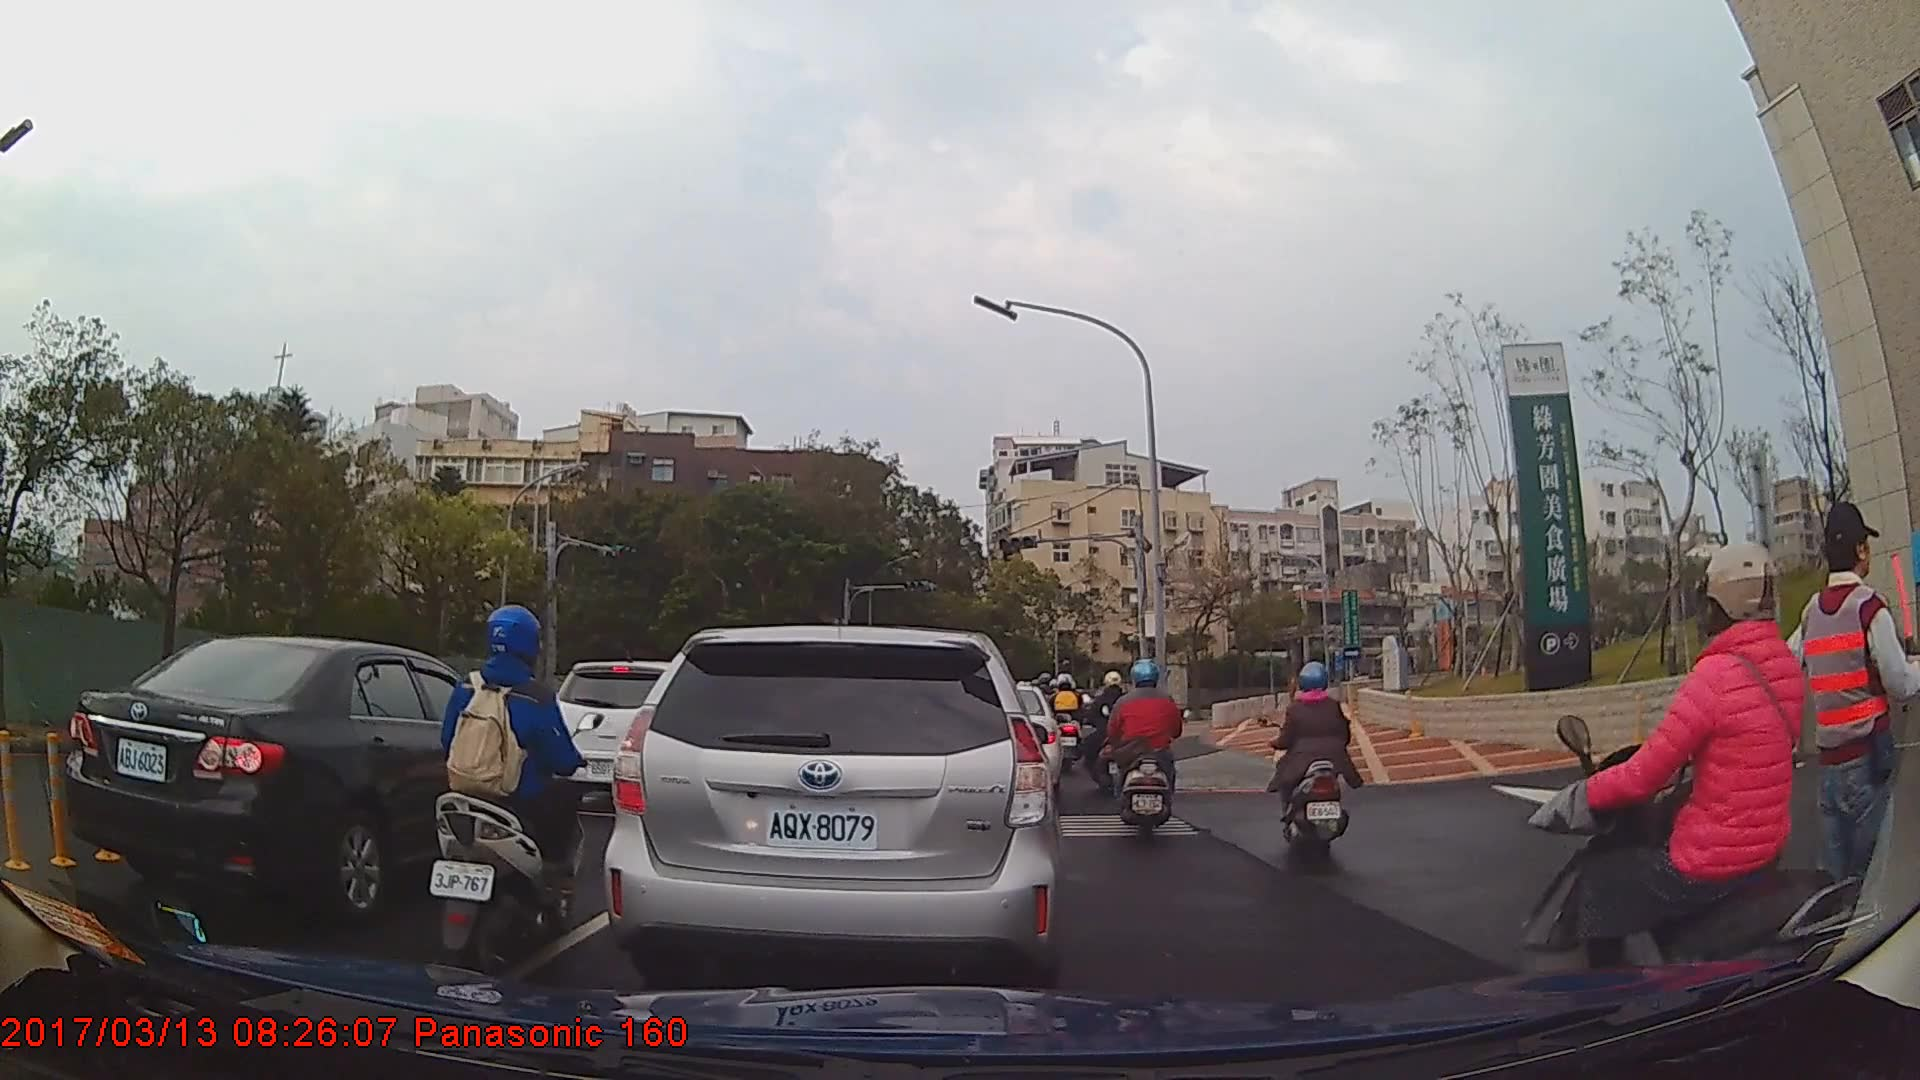pedestrian: (1748, 498, 1919, 979)
rider: (1509, 542, 1872, 1075), (436, 602, 599, 988), (1273, 655, 1353, 862), (1107, 657, 1189, 841), (1086, 671, 1135, 799), (1051, 670, 1086, 773)
vehicle: (601, 625, 1060, 993), (66, 633, 564, 918), (545, 658, 696, 799)
